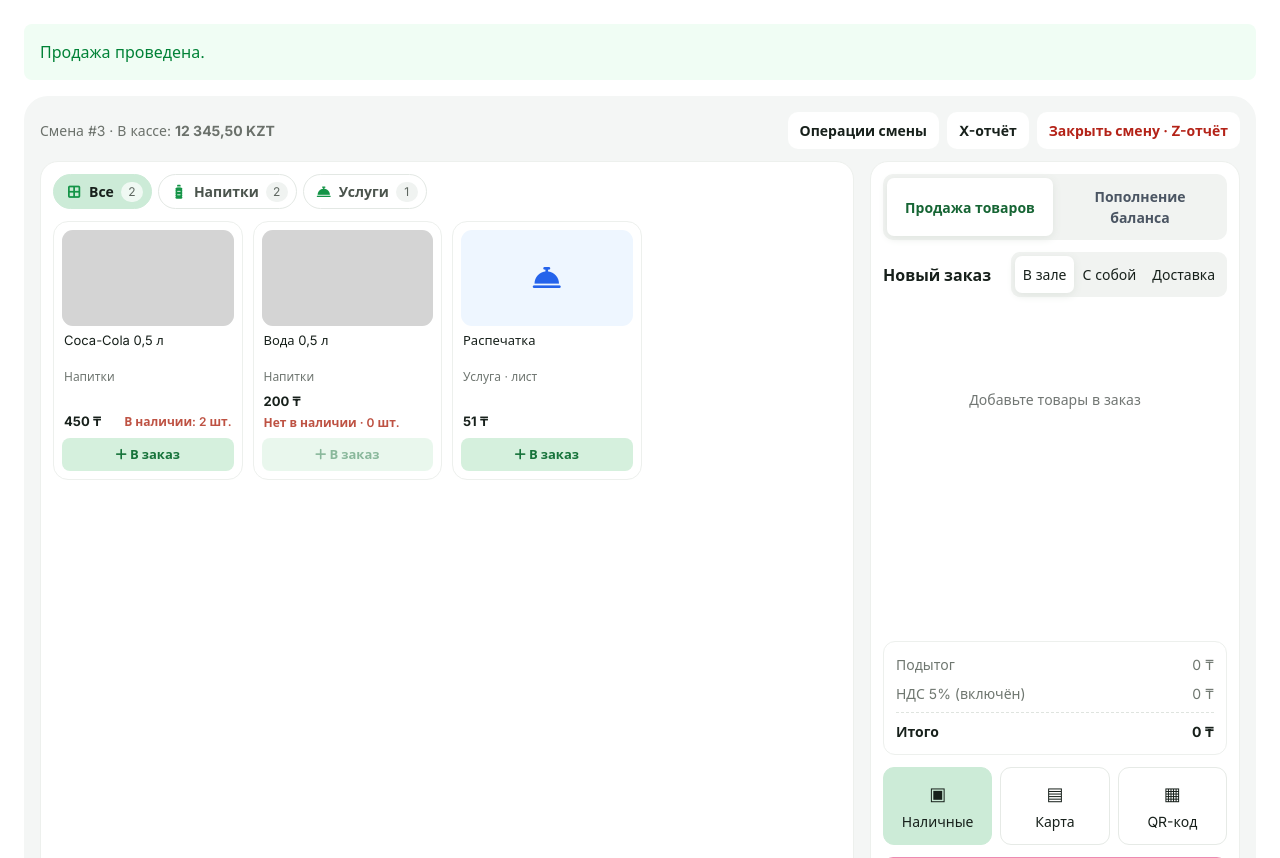
Test: касса POS › пополнение баланса: клиент из списка, сумма «1500.50» → 150 050 тиынов
Check: the heading "Coca-Cola 0,5 л" is shown, box [64,332,164,348]
Step 1. Click the tab "Пополнение баланса" → [1140, 207], box [1057,178,1223,236]
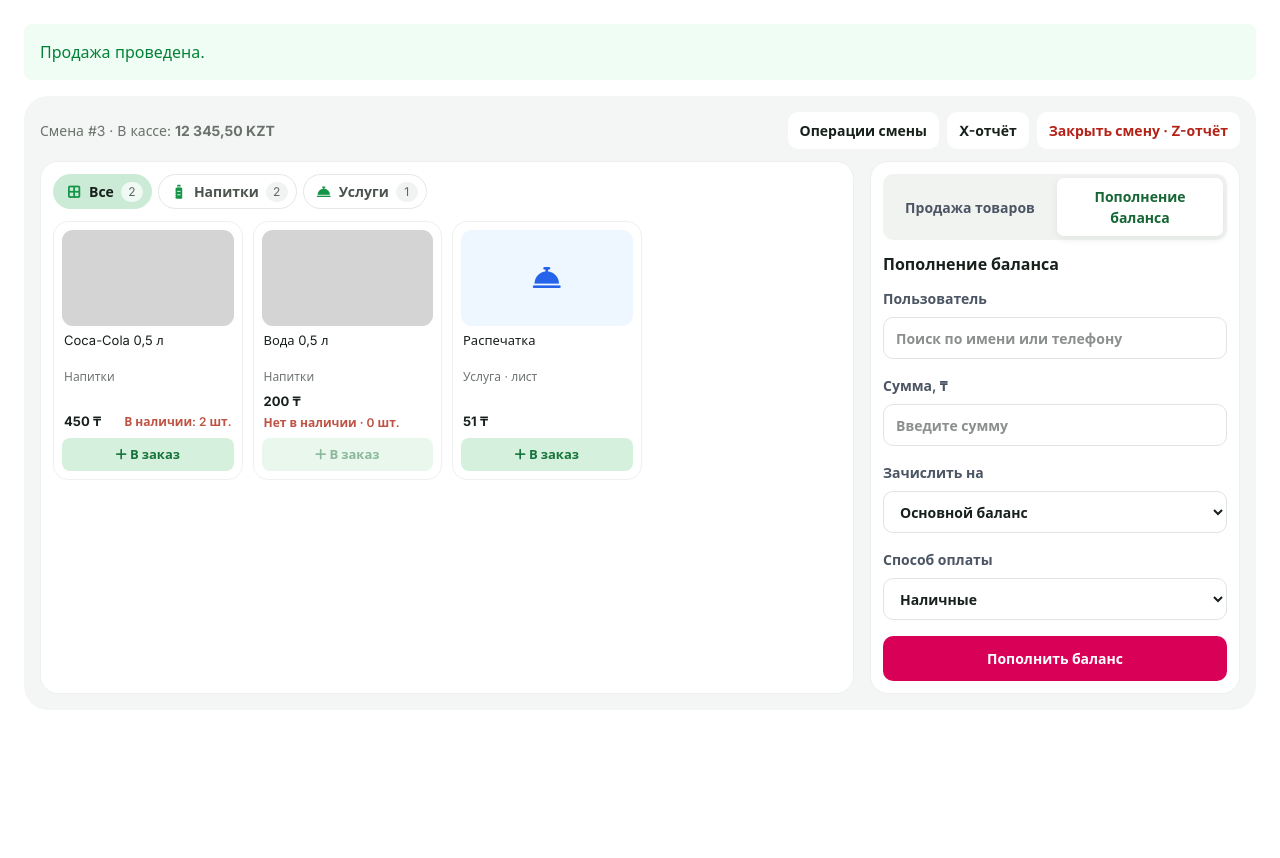
Step 2. Type "Айг" into the dropdown labelled "Пользователь" → [1055, 338], box [883,317,1227,359]
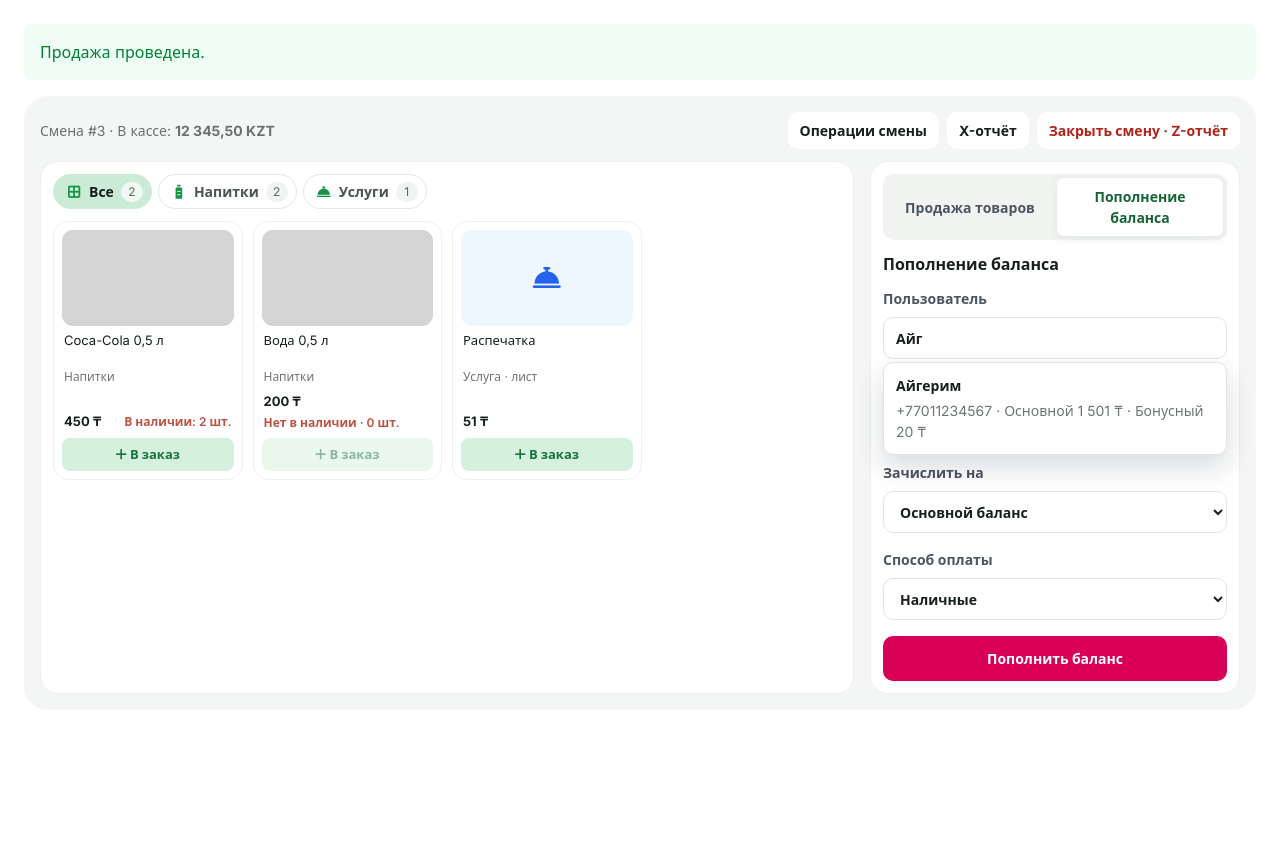
Check: the option "Айгерим +77011234567 · Основной 1 501 ₸ · Бонусный 20 ₸" is shown
Step 3. Click the option "Айгерим +77011234567 · Основной 1 501 ₸ · Бонусный 20 ₸" → [1055, 408], box [888,367,1222,450]
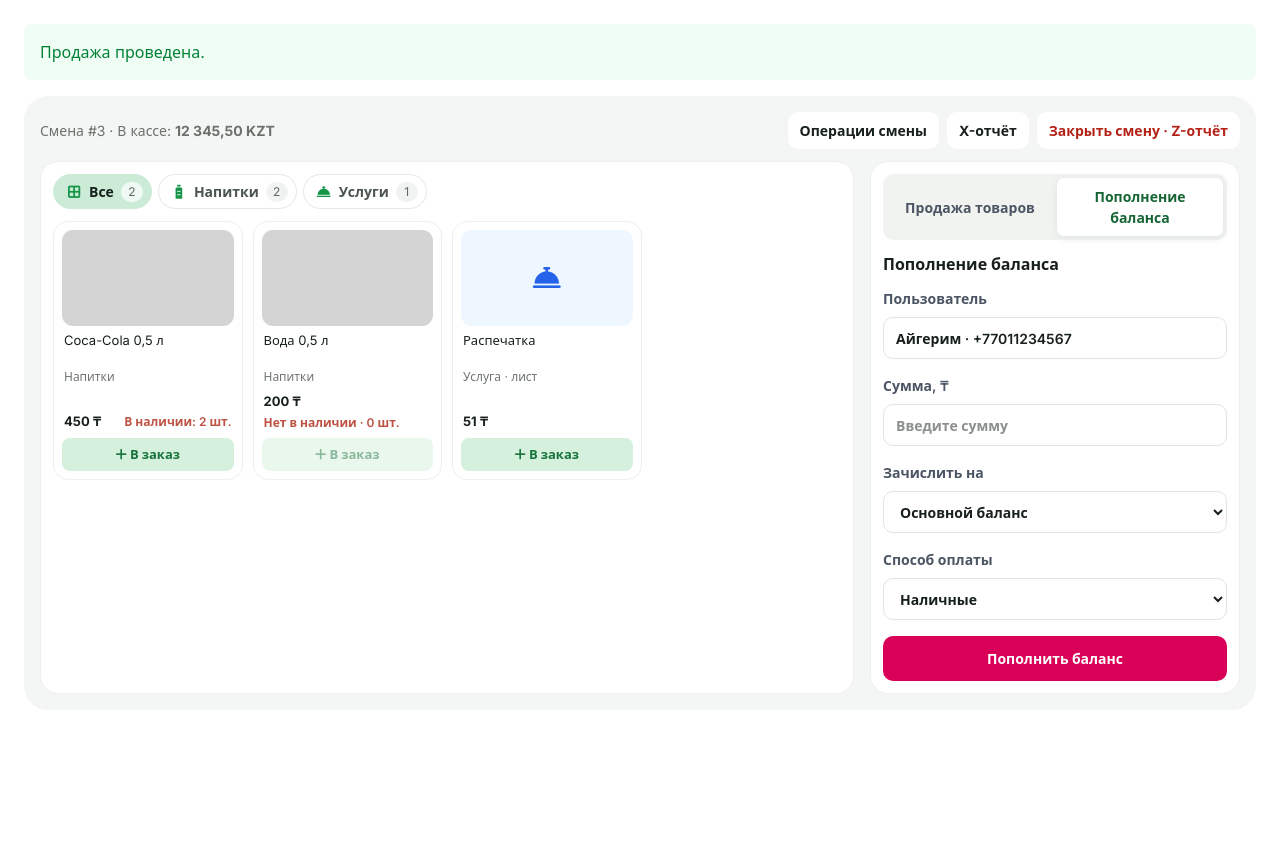
Step 4. Type "1500.50" into the number field with placeholder "Введите сумму" → [1055, 425], box [883,404,1227,446]
Step 5. Select "Бонусный баланс" in the dropdown labelled "Зачислить на" → [1055, 512], box [883,491,1227,533]
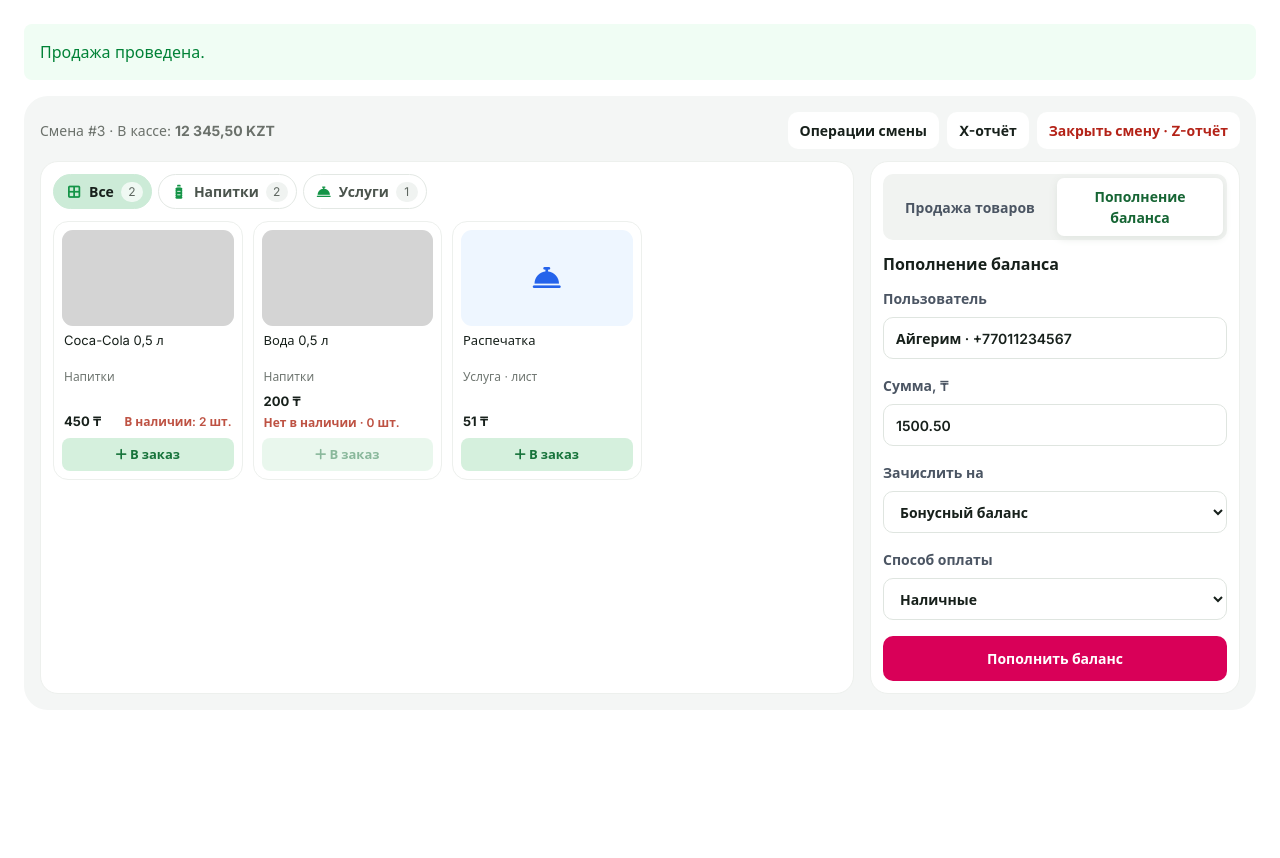
Step 6. Select "Карта" in the dropdown labelled "Способ оплаты" → [1055, 599], box [883,578,1227,620]
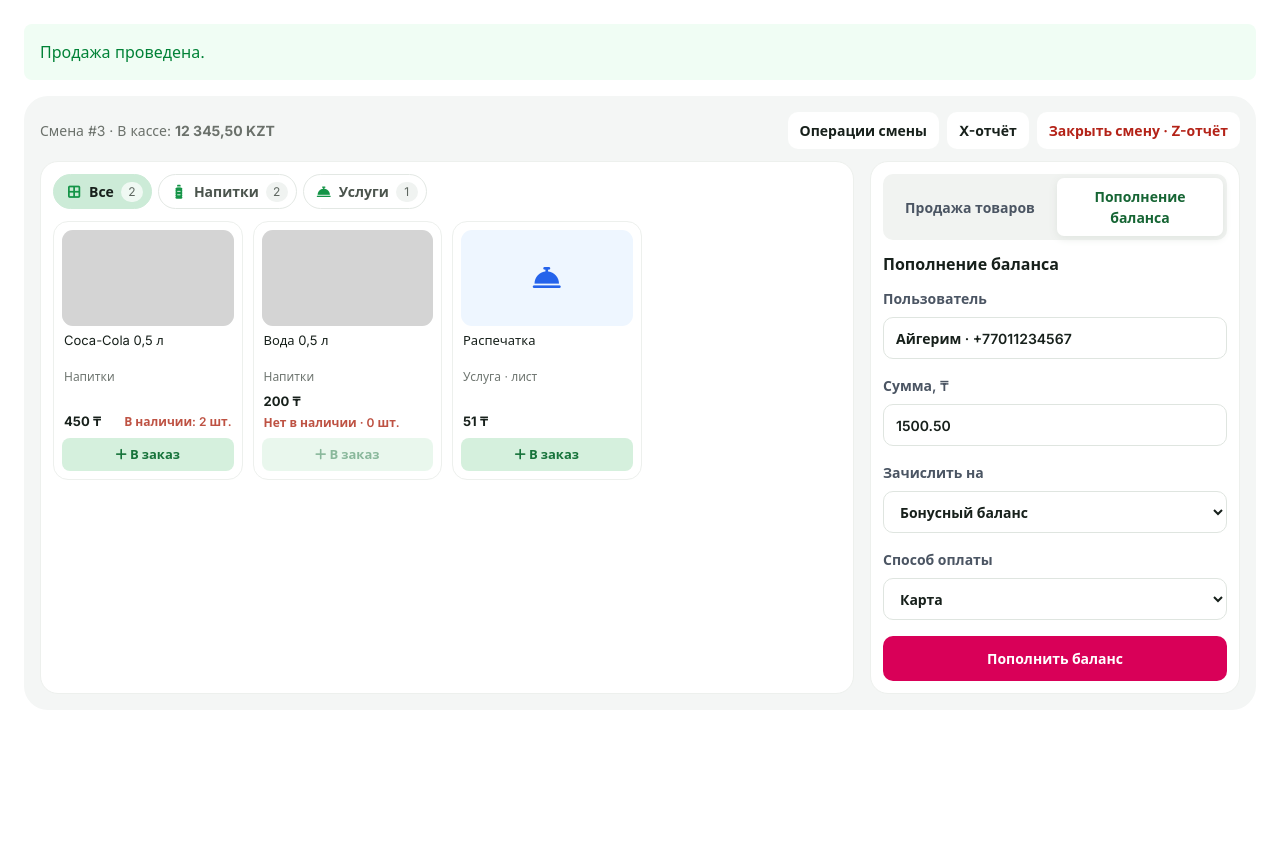
Step 7. Submit the form, box [883,288,1227,681]
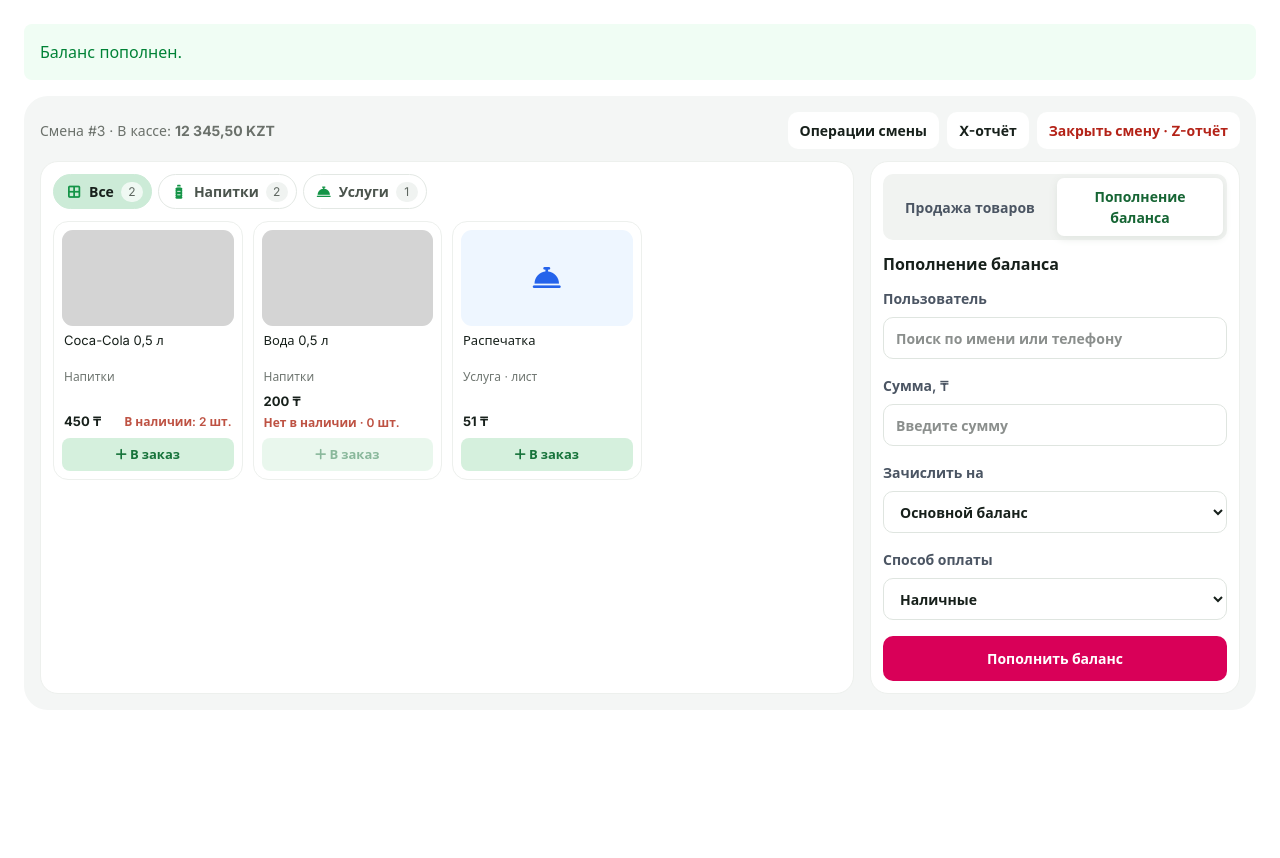
Check: the text "Баланс пополнен." is shown, box [24,24,1256,80]
